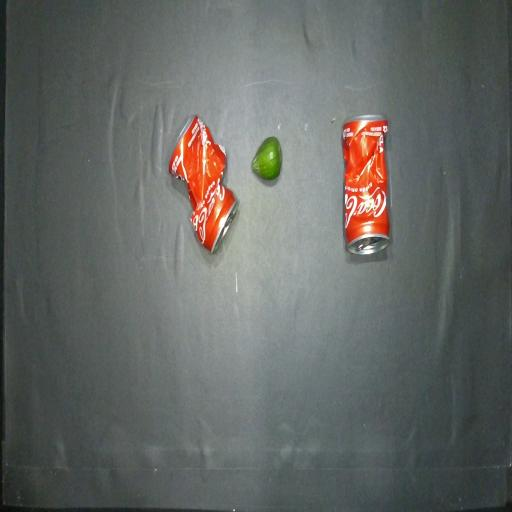higo: (251, 137, 282, 180)
lata_defectuoso: (169, 116, 238, 253), (343, 116, 389, 254)
